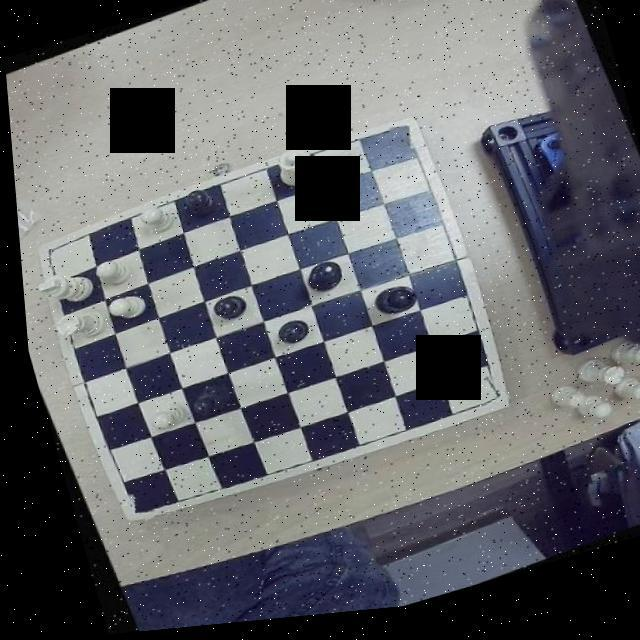chess-table-corners: (458, 380, 504, 423), (380, 121, 420, 162), (112, 487, 151, 527), (30, 237, 66, 270)
